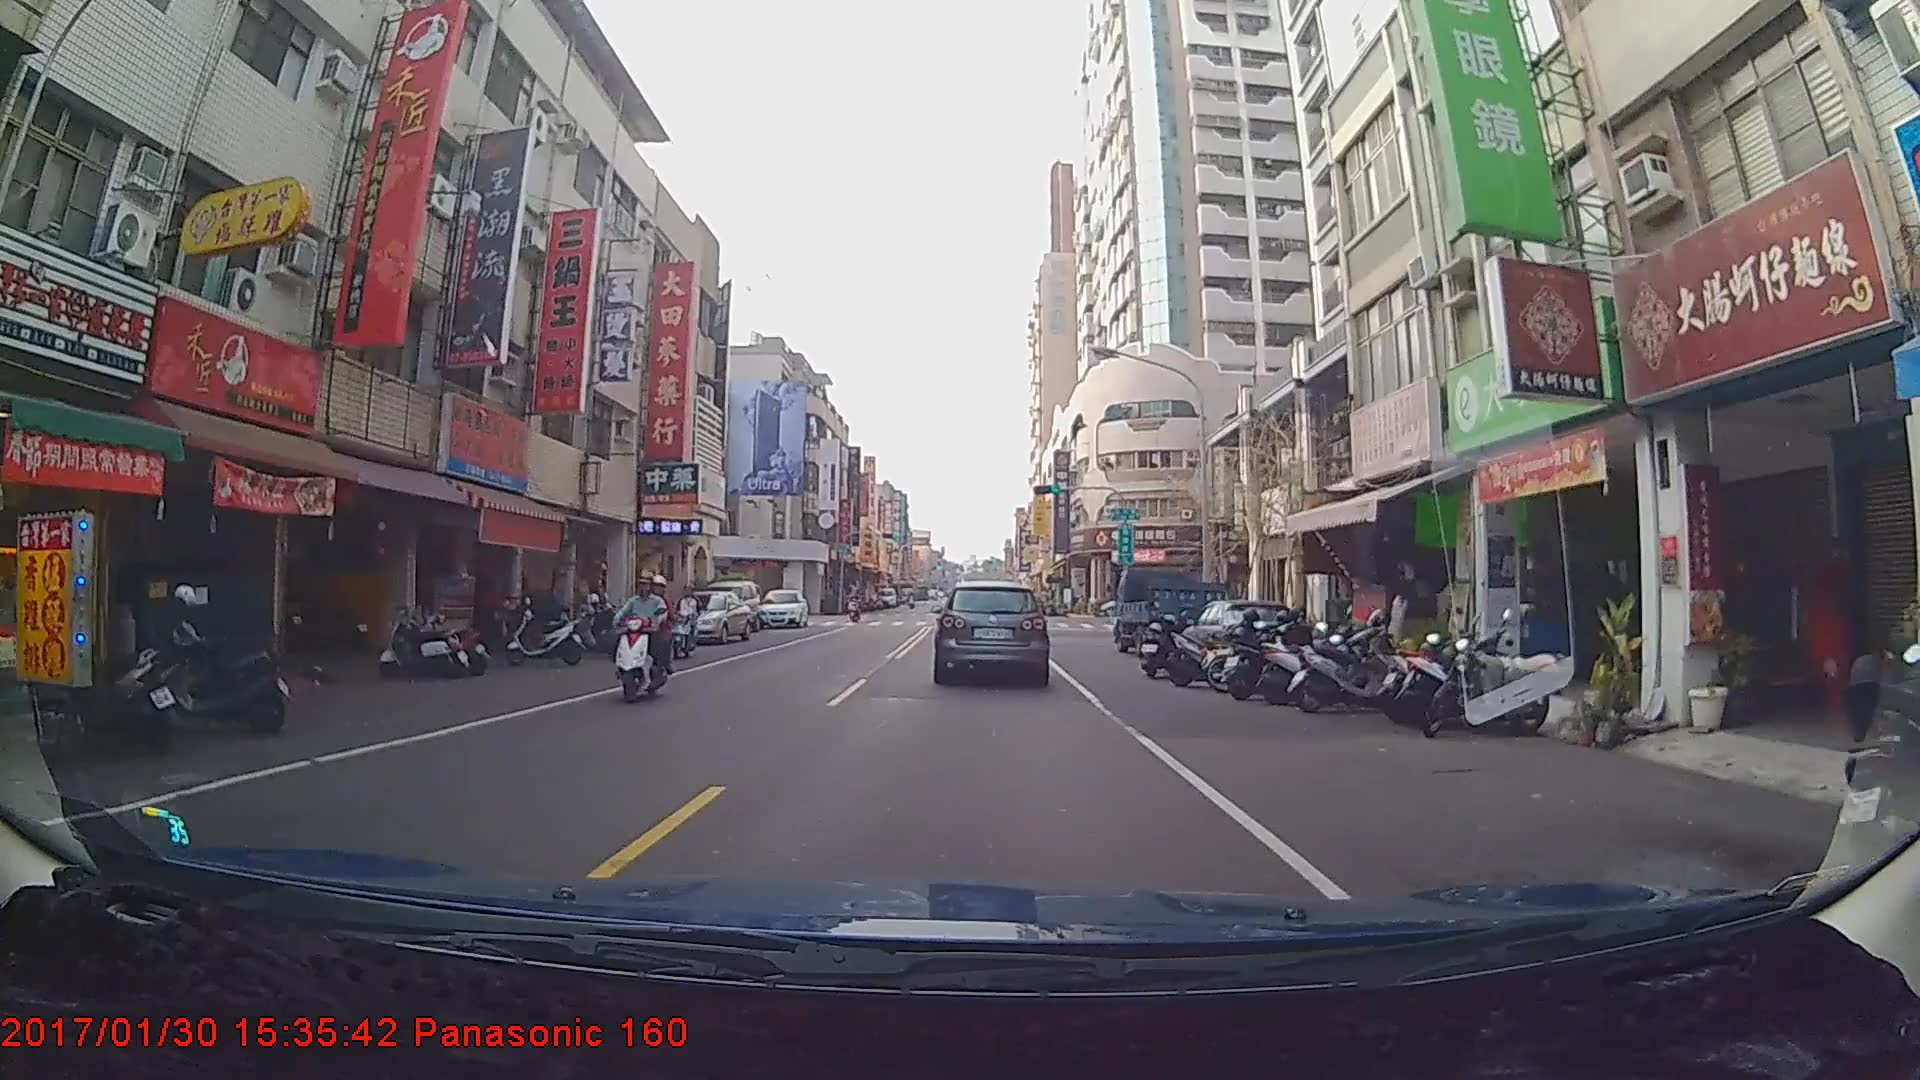rider: (609, 570, 681, 709), (845, 580, 865, 616)
vehicle: (936, 578, 1047, 684), (1109, 564, 1228, 656), (660, 588, 754, 645), (755, 580, 806, 623)
